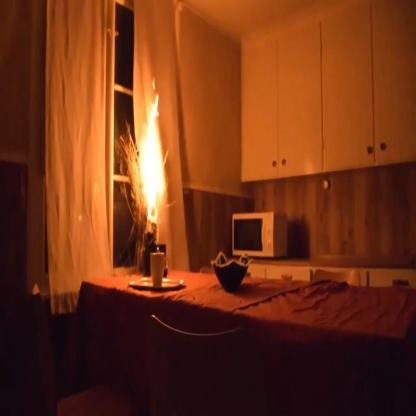fire: (137, 86, 173, 225)
